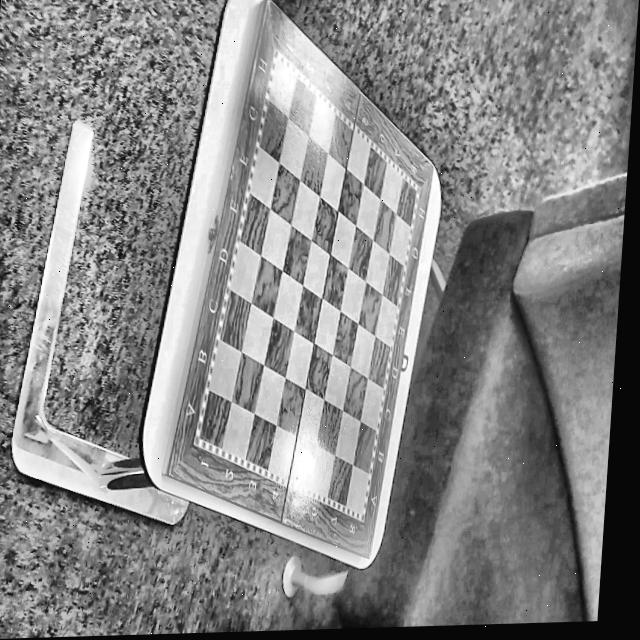chessboard: (198, 60, 416, 515)
